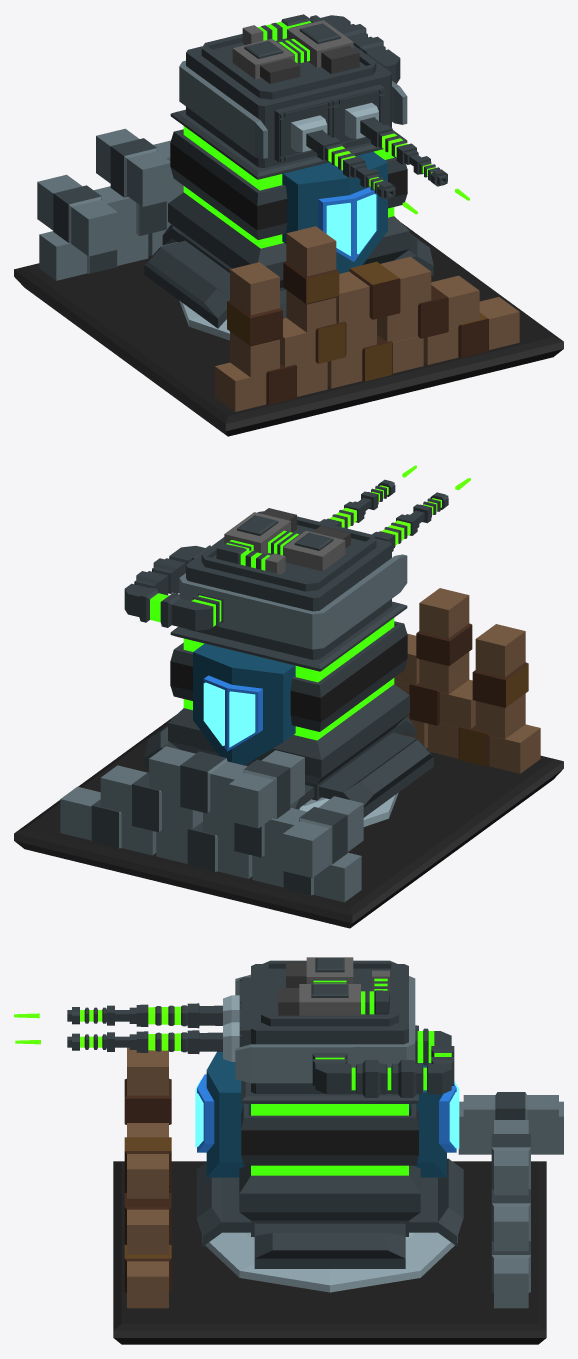
File: uploads_files_4062602_The+laser+turret+.glb
The picture shows the model from 3 angles, top to bottom: view 1: azimuth 30°, elevation 25°; view 2: azimuth 150°, elevation 25°; view 3: azimuth 270°, elevation 25°; orthographic projection. The views are drawn at different scales.
Parts seen in each view (by area): view 1: Cube.002, Cube.001, Cube.005, Cube.003, Cube.006, Cube.004; view 2: Cube.002, Cube.001, Cube.005, Cube.003, Cube.006, Cube.004; view 3: Cube.001, Cube.002, Cube.005, Cube.003, Cube.006, Cube.004.
Boxes of the visible parts, x1,y1,x2,y2 form: Cube.002: (14,128,563,436); Cube.001: (144,14,433,328); Cube.005: (306,130,366,177); Cube.003: (360,117,418,164); Cube.006: (356,167,395,199); Cube.004: (409,154,447,186); Cube.002: (14,588,563,928); Cube.001: (124,508,433,817); Cube.005: (372,514,419,551); Cube.003: (320,501,365,528); Cube.006: (410,492,448,523); Cube.004: (358,479,395,510); Cube.001: (195,957,463,1268); Cube.002: (113,1047,563,1344); Cube.005: (129,1003,222,1028); Cube.003: (129,1030,222,1054); Cube.006: (67,1005,129,1025); Cube.004: (67,1032,129,1051).
Bounding box in the file's own units: 5.07 × 4.05 × 6.97.
Materials: 4 (1 with a texture image).
